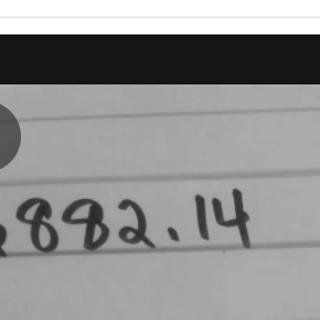.: (162, 224, 185, 243)
1: (191, 194, 208, 241)
2: (118, 199, 153, 249)
4: (212, 188, 251, 245)
8: (16, 195, 63, 253), (64, 198, 111, 251)
